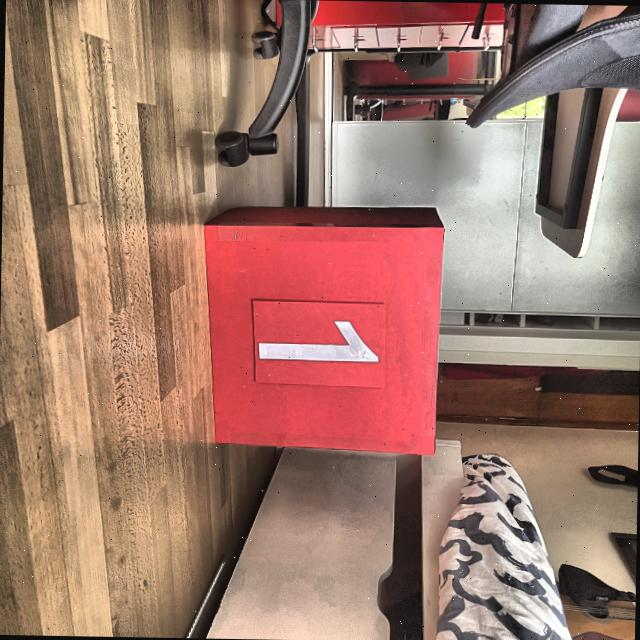one: (254, 314, 382, 366)
red box: (206, 202, 439, 450)
